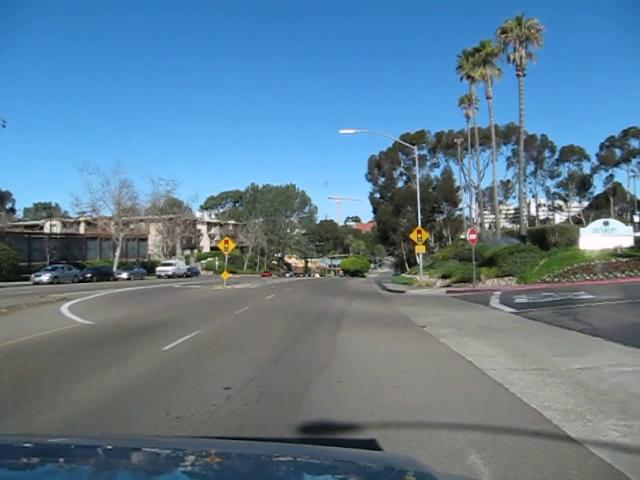signalAhead: (408, 224, 429, 245), (215, 234, 235, 256)
